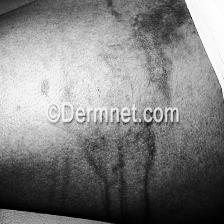Benign Marking or Mole: (99, 43, 132, 91)
